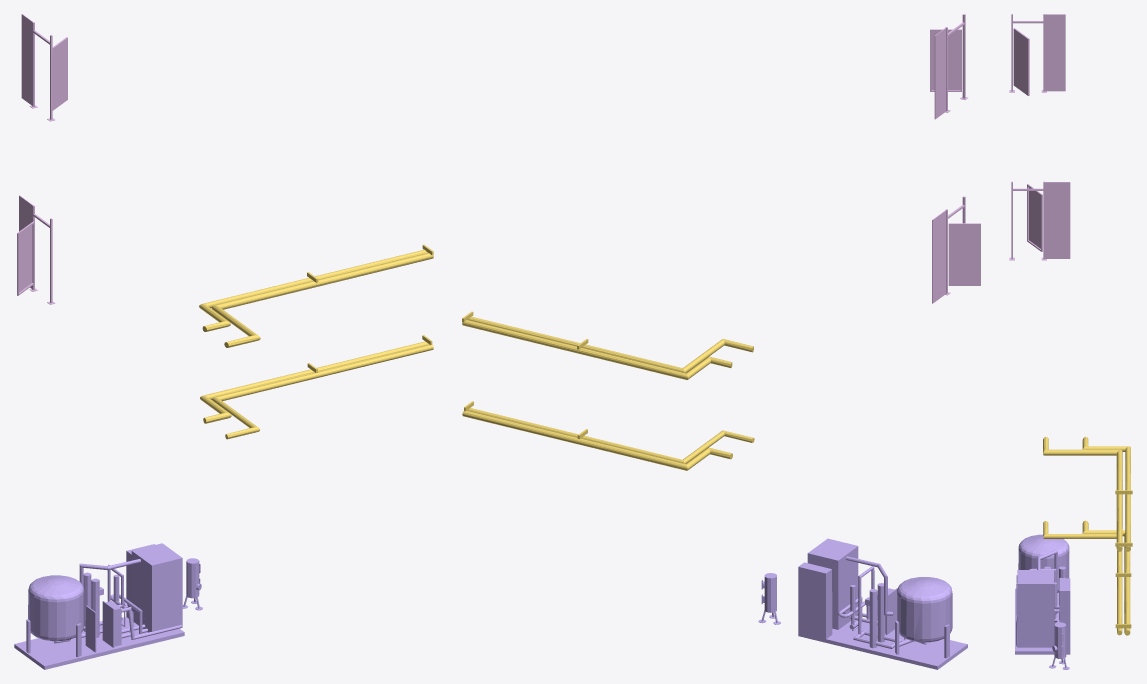
The model's file is HO-side-C-Services-cut2.glb.
The picture shows the model from 3 angles, left to right: view 1: azimuth 30°, elevation 25°; view 2: azimuth 150°, elevation 25°; view 3: azimuth 270°, elevation 25°; orthographic projection. The views are drawn at different scales.
Visible parts, largest first — view 1: _000001D30E805E20_IndexedFaceSet, _000001D304198550_IndexedFaceSet, _000001D30E800A20_IndexedFaceSet; view 2: _000001D30E805E20_IndexedFaceSet, _000001D304198550_IndexedFaceSet, _000001D30E800A20_IndexedFaceSet; view 3: _000001D30E805E20_IndexedFaceSet, _000001D30E800A20_IndexedFaceSet, _000001D304198550_IndexedFaceSet.
Boxes of the visible parts, <box> form: _000001D30E805E20_IndexedFaceSet: <box>14,543,202,669</box>; _000001D304198550_IndexedFaceSet: <box>199,244,433,439</box>; _000001D30E800A20_IndexedFaceSet: <box>17,14,67,304</box>; _000001D30E805E20_IndexedFaceSet: <box>758,538,967,669</box>; _000001D304198550_IndexedFaceSet: <box>462,311,754,470</box>; _000001D30E800A20_IndexedFaceSet: <box>930,14,980,303</box>; _000001D30E805E20_IndexedFaceSet: <box>1015,534,1070,669</box>; _000001D30E800A20_IndexedFaceSet: <box>1009,14,1070,260</box>; _000001D304198550_IndexedFaceSet: <box>1043,436,1132,635</box>.
Bounding box in the file's own units: 13.28 × 17.3 × 3.33.
